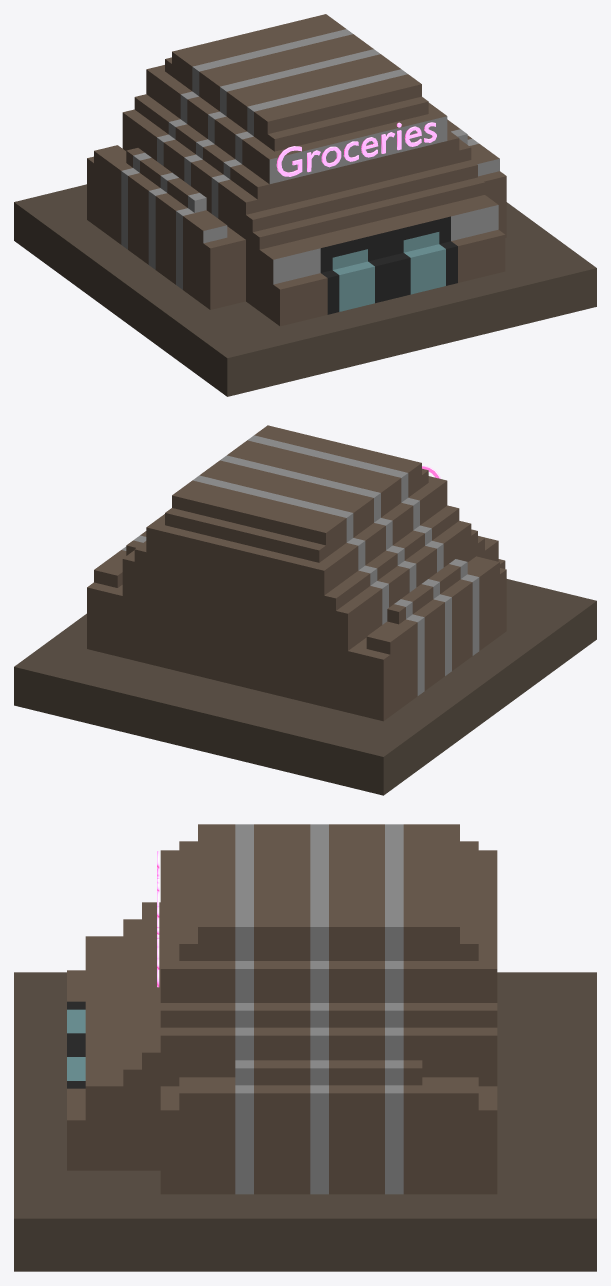
File: shop-super.glb
3 views of the same model, one above another, from view 1: azimuth 30°, elevation 25°; view 2: azimuth 150°, elevation 25°; view 3: azimuth 270°, elevation 25° (orthographic). The views are drawn at different scales.
Visible parts, largest first — view 1: Groceries::New; view 2: Groceries::New; view 3: Groceries::New.
Boxes of the visible parts, x1=… form: Groceries::New: x1=14, y1=14, x2=596, y2=396; Groceries::New: x1=14, y1=425, x2=596, y2=795; Groceries::New: x1=14, y1=824, x2=596, y2=1271.
Size of the model in its own units: 1 by 0.516 by 1.
